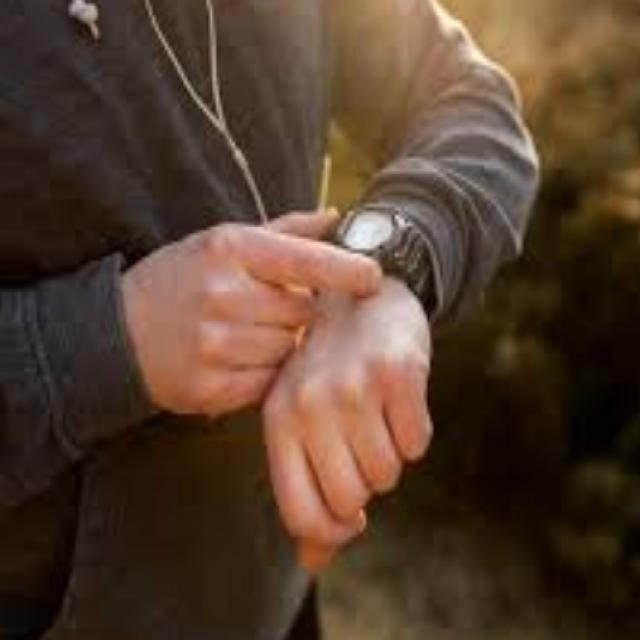Watch: (328, 200, 442, 300)
